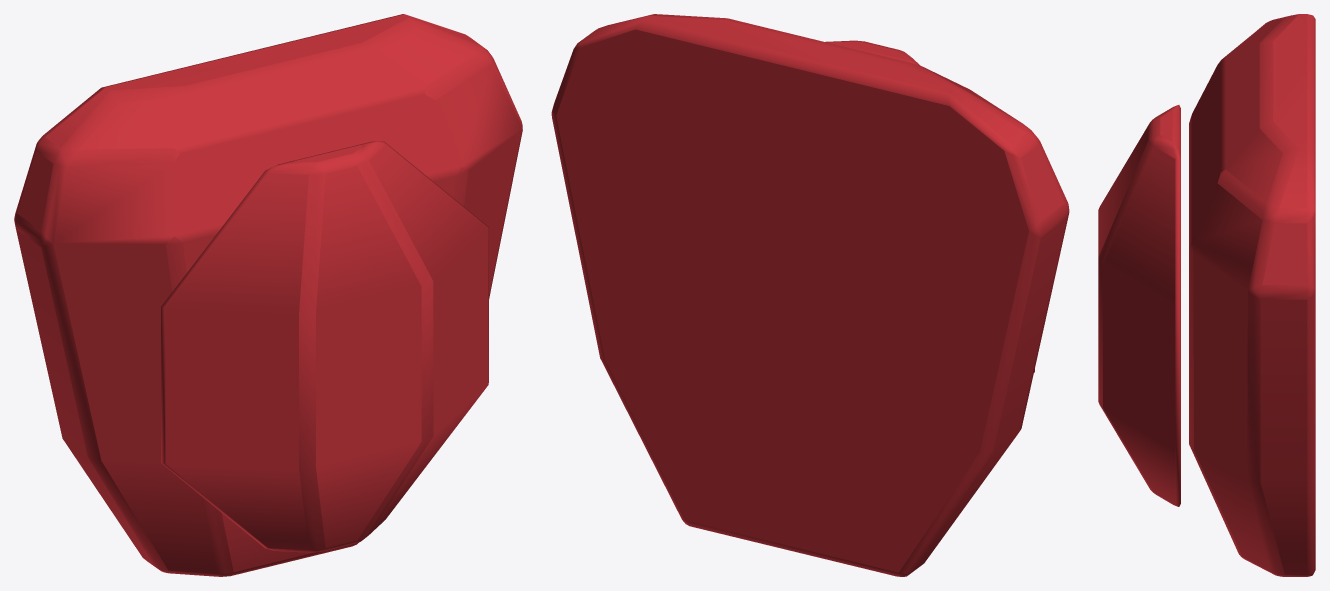
File: HeadBack_Set09_Mantis.fbx
3 views of the same model, side by side, from view 1: azimuth 30°, elevation 25°; view 2: azimuth 150°, elevation 25°; view 3: azimuth 270°, elevation 25° (orthographic). The views are drawn at different scales.
Visible parts, largest first — view 1: HeadBack_Set09_Mantis; view 2: HeadBack_Set09_Mantis; view 3: HeadBack_Set09_Mantis.
Part boxes in pixels (<box>): HeadBack_Set09_Mantis: <box>14,14,522,576</box>; HeadBack_Set09_Mantis: <box>551,14,1069,576</box>; HeadBack_Set09_Mantis: <box>1098,14,1315,576</box>.
Bounding box in the file's own units: 0.5571 × 0.54 × 0.237.
